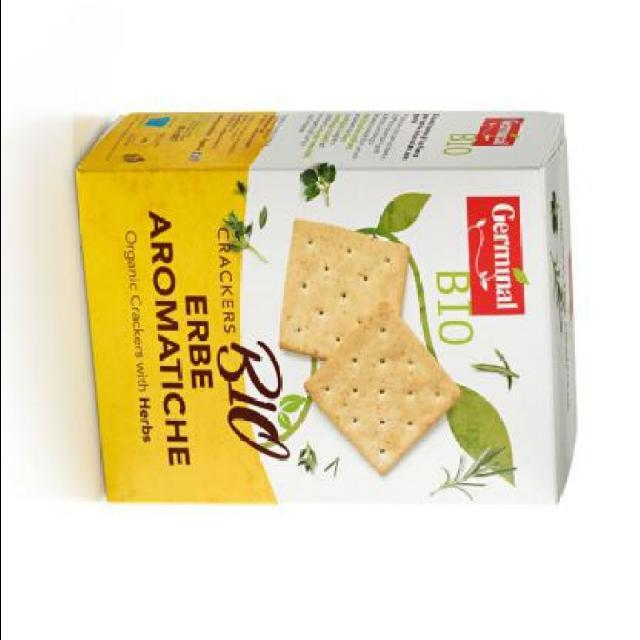Cracker: (63, 100, 579, 526)
